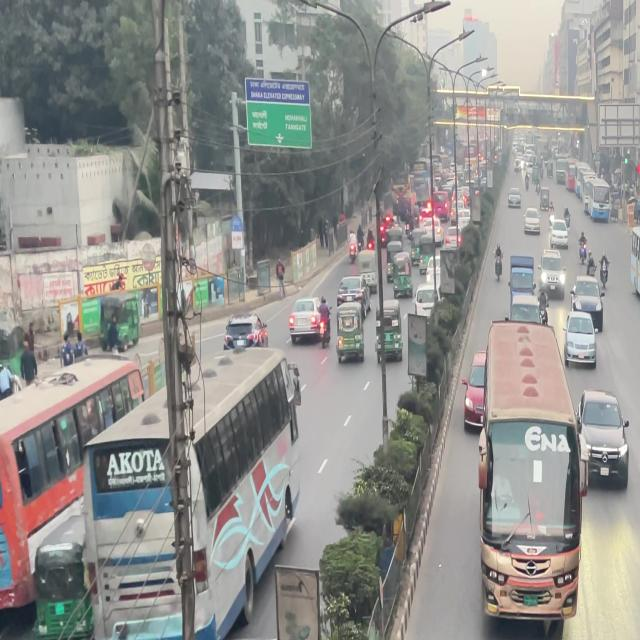bus: (87, 349, 307, 640), (0, 351, 156, 640), (482, 338, 586, 620), (626, 228, 640, 302)
car: (578, 394, 630, 494), (290, 299, 334, 350), (566, 308, 602, 369), (223, 316, 269, 349), (518, 202, 546, 244), (574, 278, 608, 310), (176, 634, 292, 640)
rickshaw: (333, 298, 372, 371), (374, 311, 405, 362)
